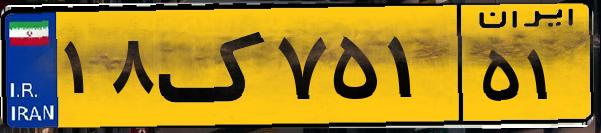1: (385, 28, 445, 110), (57, 26, 110, 100), (525, 38, 570, 115)
5: (330, 28, 385, 110), (475, 38, 525, 113)
7: (270, 28, 330, 110)
8: (110, 28, 158, 98)
ک: (158, 12, 270, 120)
